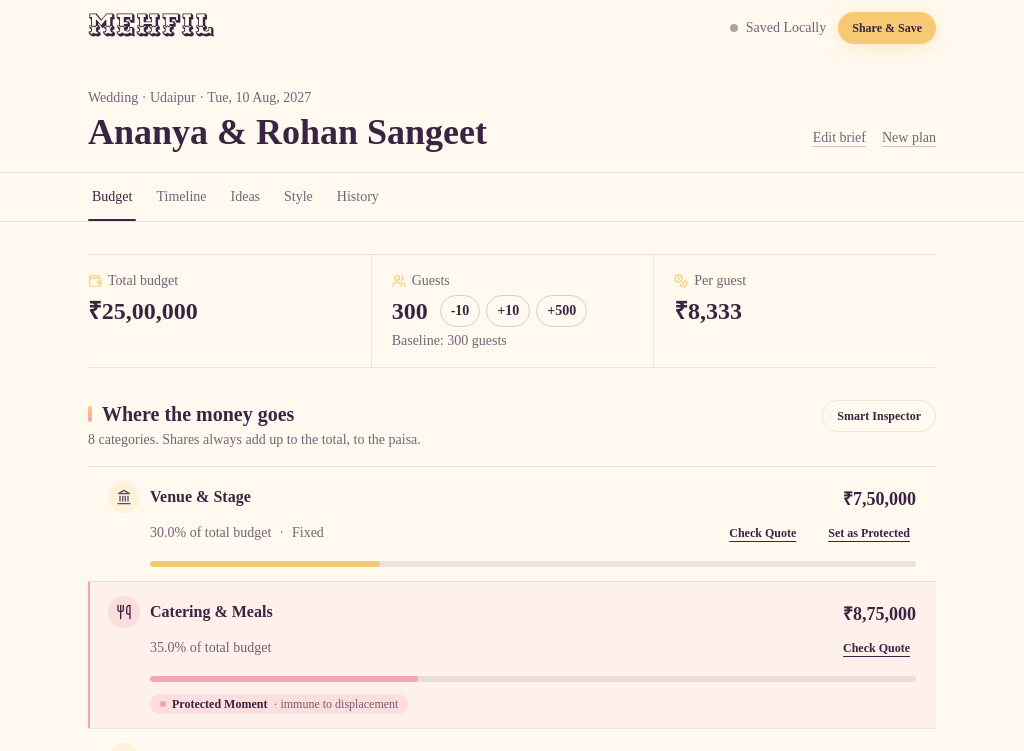
Test: PlanWorkspace Component › Phase 3 Collaboration & Orchestration (D-01, D-09, D-14, D-15, COLLAB-04) › opens ShareSaveModal when clicking Share & Save button
The width and height of the screenshot is (1024, 751).
Click the button "Share & Save" at (887,28), box x1=838 y1=12 x2=936 y2=44
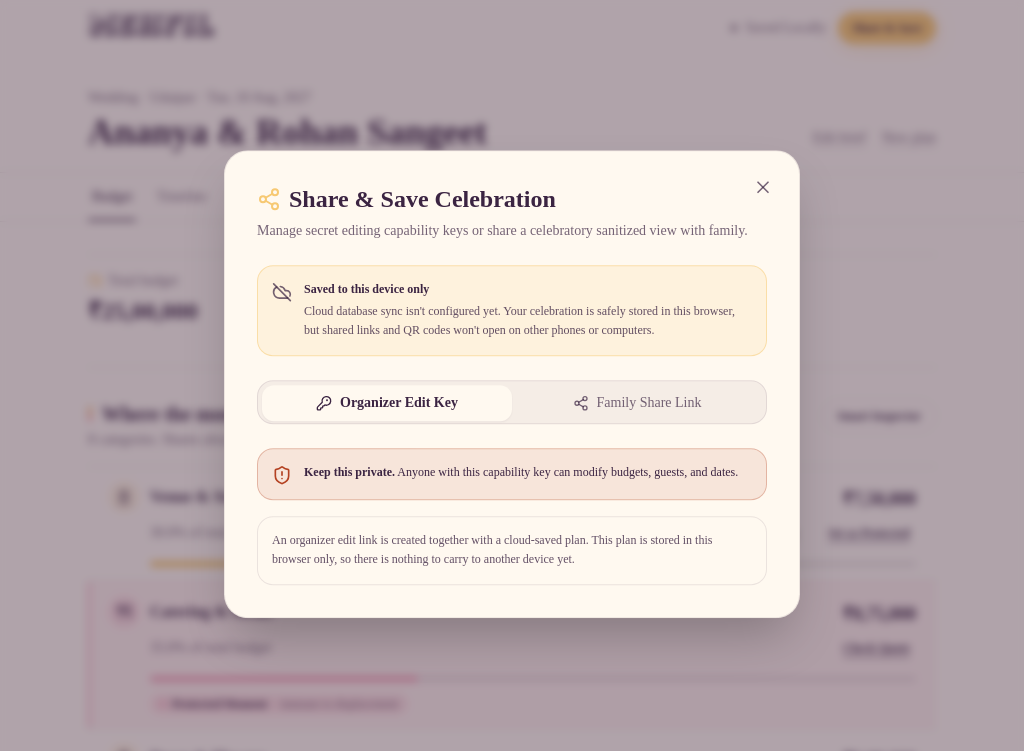
Now the text "Share & Save Celebration" is shown, box x1=289 y1=183 x2=556 y2=215
Now the tab "Family Share Link" is shown, box x1=512 y1=385 x2=762 y2=421
